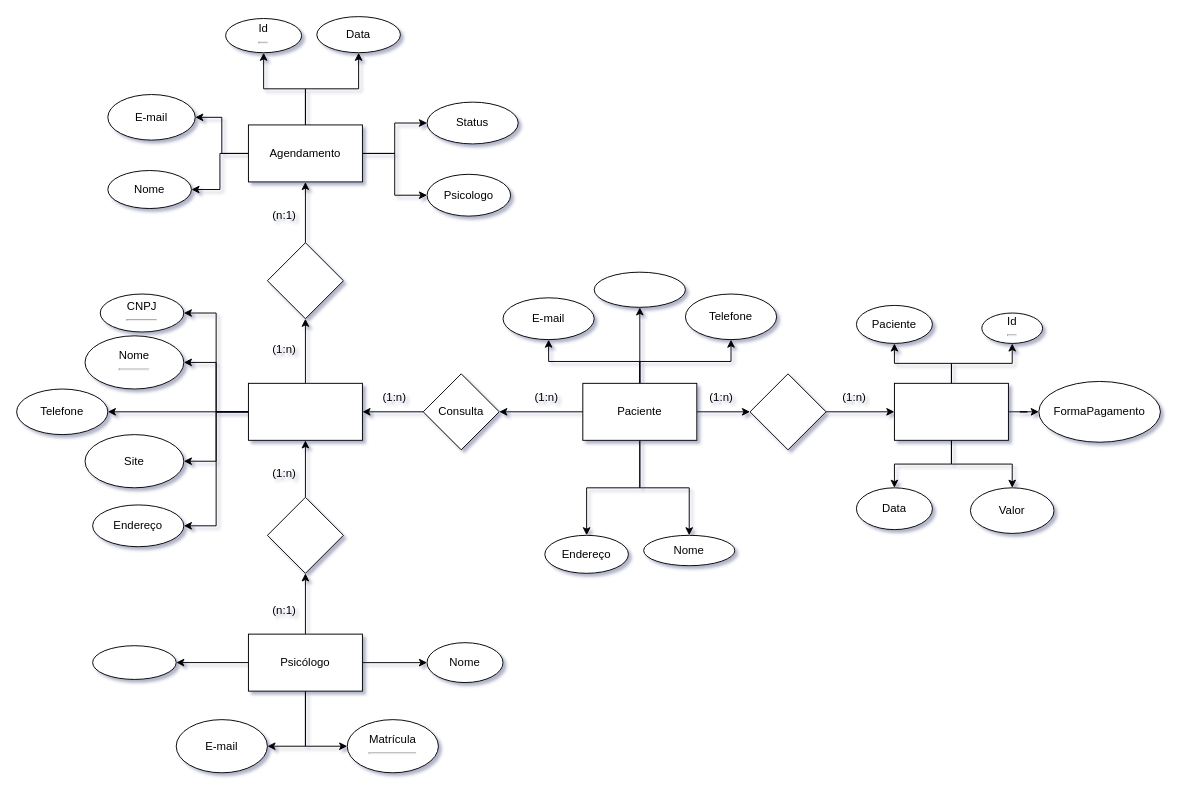
The diagram is 1183 pixels wide and 795 high, and some of its shapes have lost their labels. The centre of each missing label's shape, as x and y in pixels:
Atende: (304,534)
Clinica de psicologia: (304,411)
CPF: (639,289)
CRP: (134,662)
Faz: (304,280)
Pagamento: (950,411)
Realiza: (787,411)
